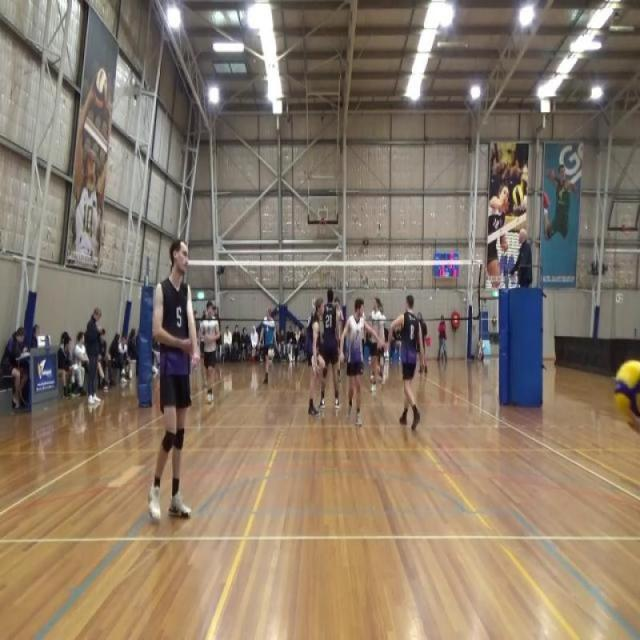volleyball: (611, 356, 640, 429), (94, 67, 108, 110), (512, 184, 525, 208)
